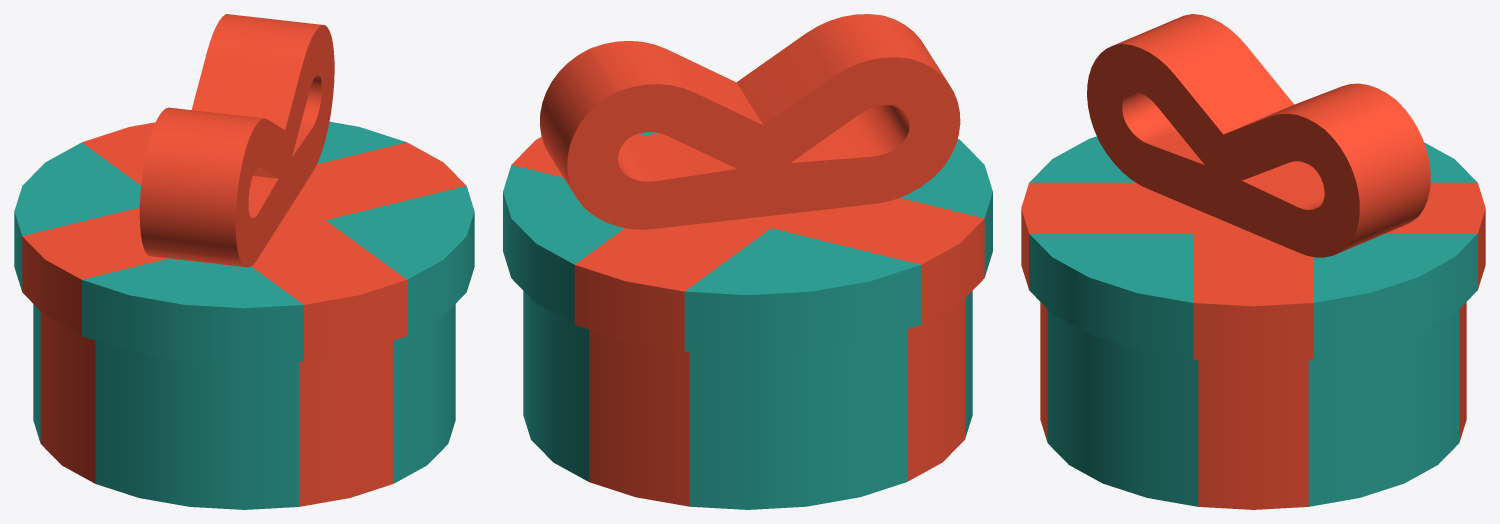
The model's file is presentGreenRound.fbx.
3 views of the same model, side by side, from view 1: azimuth 30°, elevation 25°; view 2: azimuth 150°, elevation 25°; view 3: azimuth 270°, elevation 25° (orthographic). The views are drawn at different scales.
Parts seen in each view (by area): view 1: lid, presentGreenRound; view 2: lid, presentGreenRound; view 3: lid, presentGreenRound.
Part boxes in pixels (left/top/right/bottom): lid: left=14, top=14, right=474, bottom=364; presentGreenRound: left=33, top=304, right=455, bottom=509; lid: left=503, top=14, right=992, bottom=354; presentGreenRound: left=523, top=291, right=972, bottom=509; lid: left=1021, top=14, right=1485, bottom=362; presentGreenRound: left=1040, top=302, right=1466, bottom=509.
Bounding box in the file's own units: 3.61 × 3 × 3.61.
